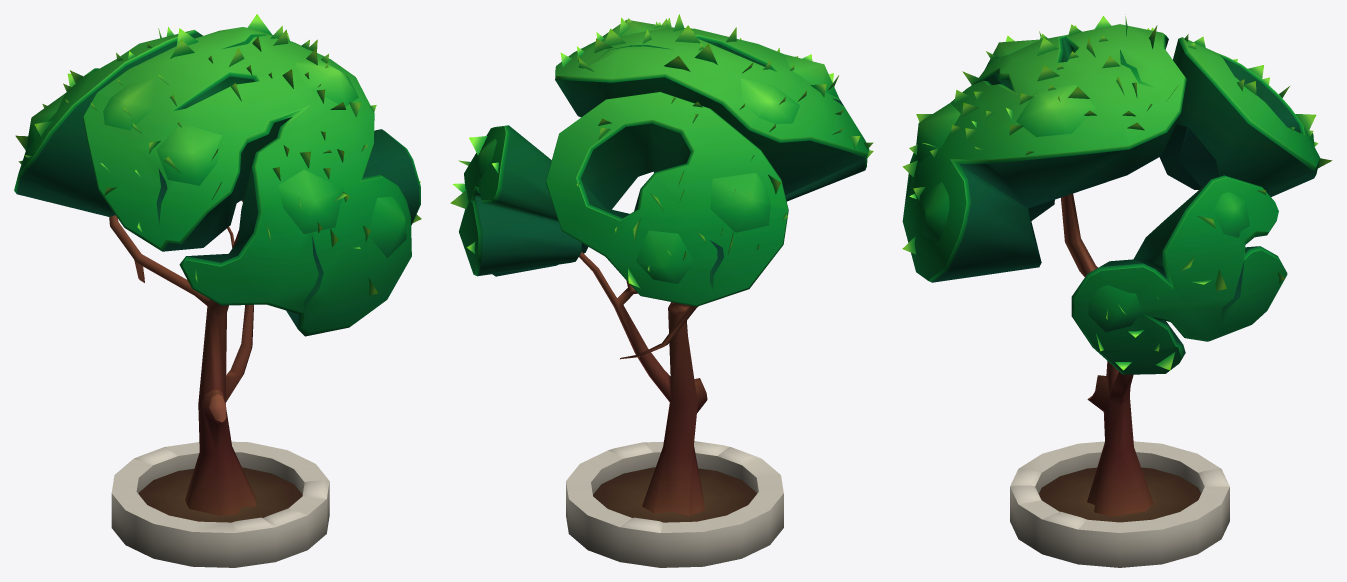
File: Tree_1C.fbx
The picture shows the model from 3 angles, left to right: view 1: azimuth 30°, elevation 25°; view 2: azimuth 150°, elevation 25°; view 3: azimuth 270°, elevation 25°; orthographic projection.
Visible parts, largest first — view 1: Tree_1C; view 2: Tree_1C; view 3: Tree_1C.
Boxes of the visible parts, left/top/right/bottom form: Tree_1C: left=14, top=14, right=421, bottom=567; Tree_1C: left=450, top=14, right=873, bottom=567; Tree_1C: left=902, top=14, right=1332, bottom=567.
Bounding box in the file's own units: 225 × 299 × 239.
